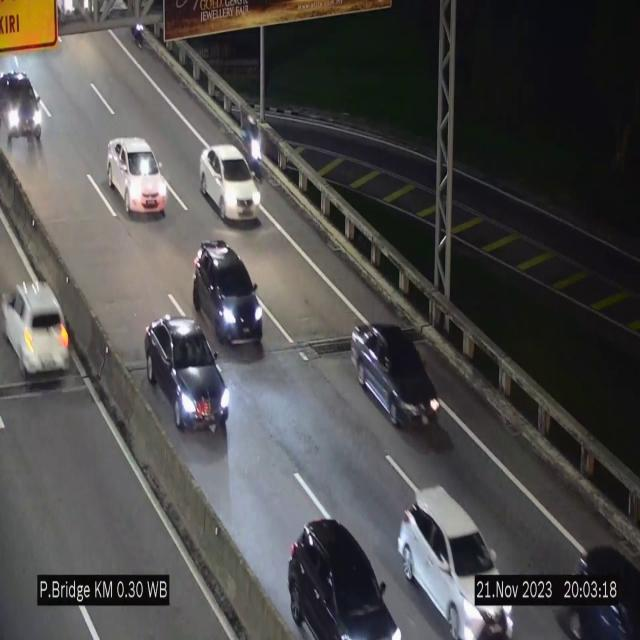Car: (398, 487, 514, 640), (283, 515, 400, 640), (145, 316, 227, 431), (352, 322, 441, 426), (562, 526, 640, 640), (193, 239, 267, 357), (2, 266, 72, 384), (199, 145, 260, 222), (107, 137, 167, 215), (0, 75, 50, 154)
Motorcycle: (242, 104, 268, 175)
